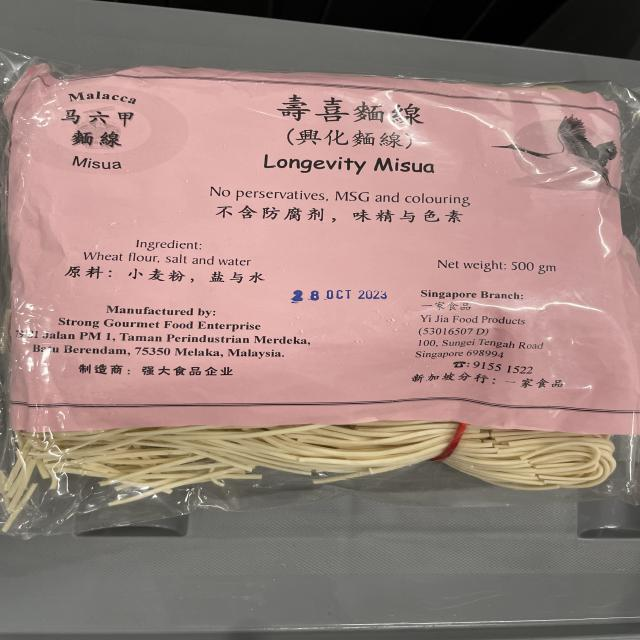object_name: (13, 75, 618, 499)
